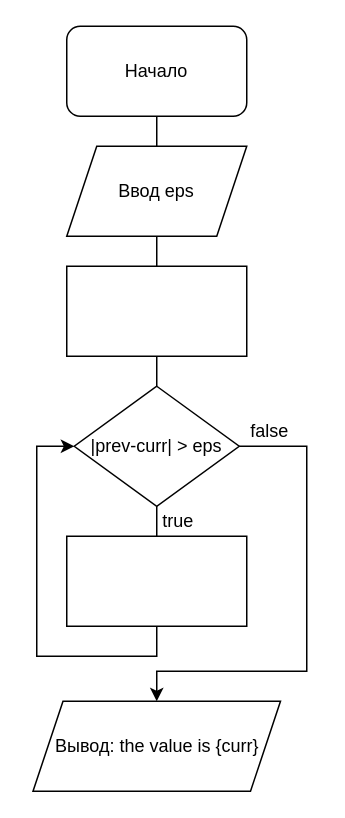
Some shapes in this 345 by 818 pixel diagram are drawn without their labels. Each missing label, with the centre of its shape:
curr = 2, prev = 3: (156,310)
prev = curr curr = 1 + 1/curr: (156,580)
